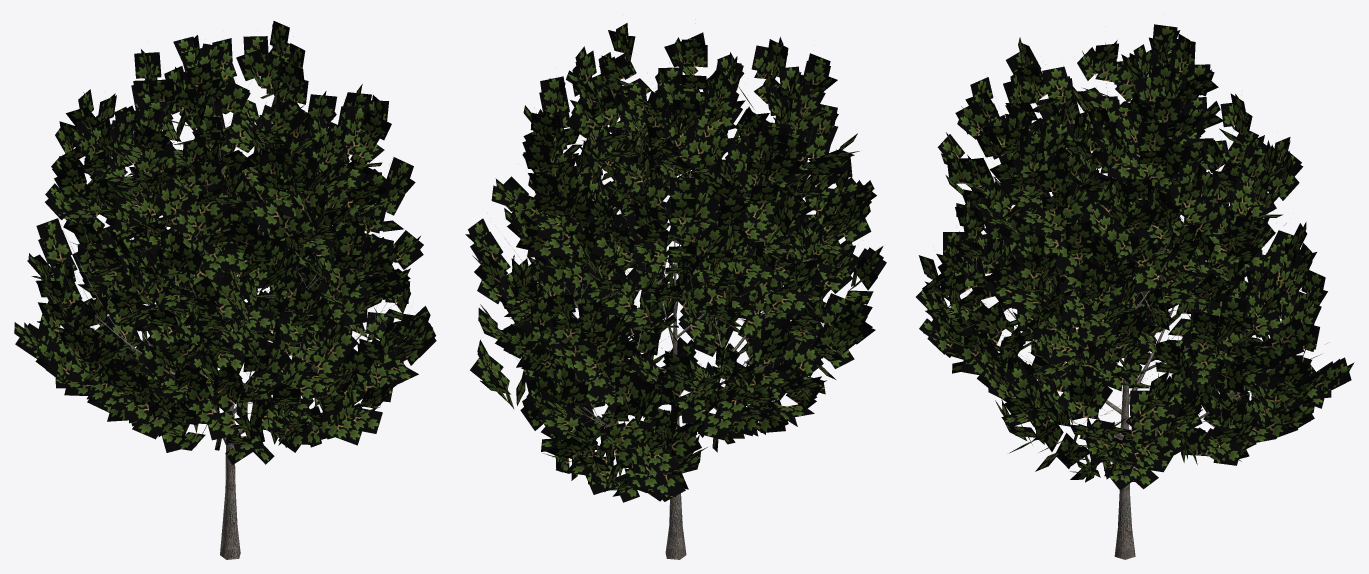
The model's file is TreeTest.glb.
The picture shows the model from 3 angles, left to right: view 1: azimuth 30°, elevation 25°; view 2: azimuth 150°, elevation 25°; view 3: azimuth 270°, elevation 25°; orthographic projection. The views are drawn at different scales.
Visible parts, largest first — view 1: Material2.448, Material2.350; view 2: Material2.448, Material2.350; view 3: Material2.448, Material2.350.
Part boxes in pixels (x1=…): Material2.448: x1=14, y1=21, x2=436, y2=464; Material2.350: x1=220, y1=320, x2=240, y2=559; Material2.448: x1=465, y1=23, x2=886, y2=502; Material2.350: x1=665, y1=263, x2=686, y2=559; Material2.448: x1=916, y1=24, x2=1354, y2=490; Material2.350: x1=1114, y1=354, x2=1135, y2=559.
Bounding box in the file's own units: 28.63 × 37.23 × 29.01.
Materials: 2 (2 with a texture image).
